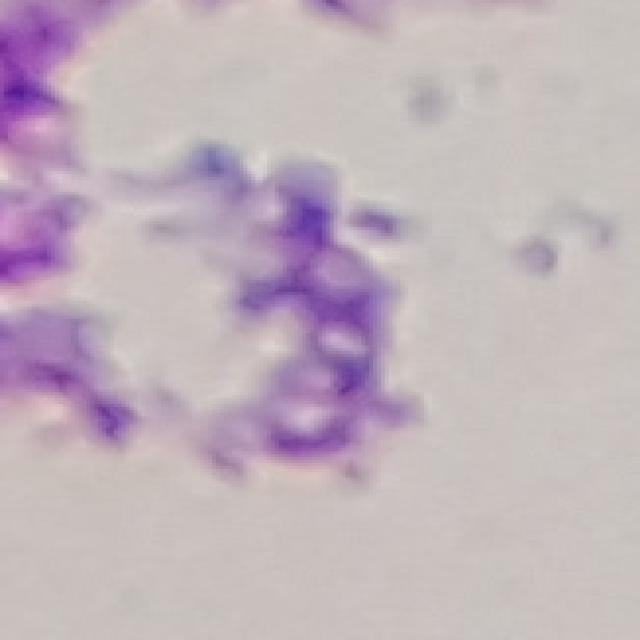non-sperm: (179, 138, 405, 488)
